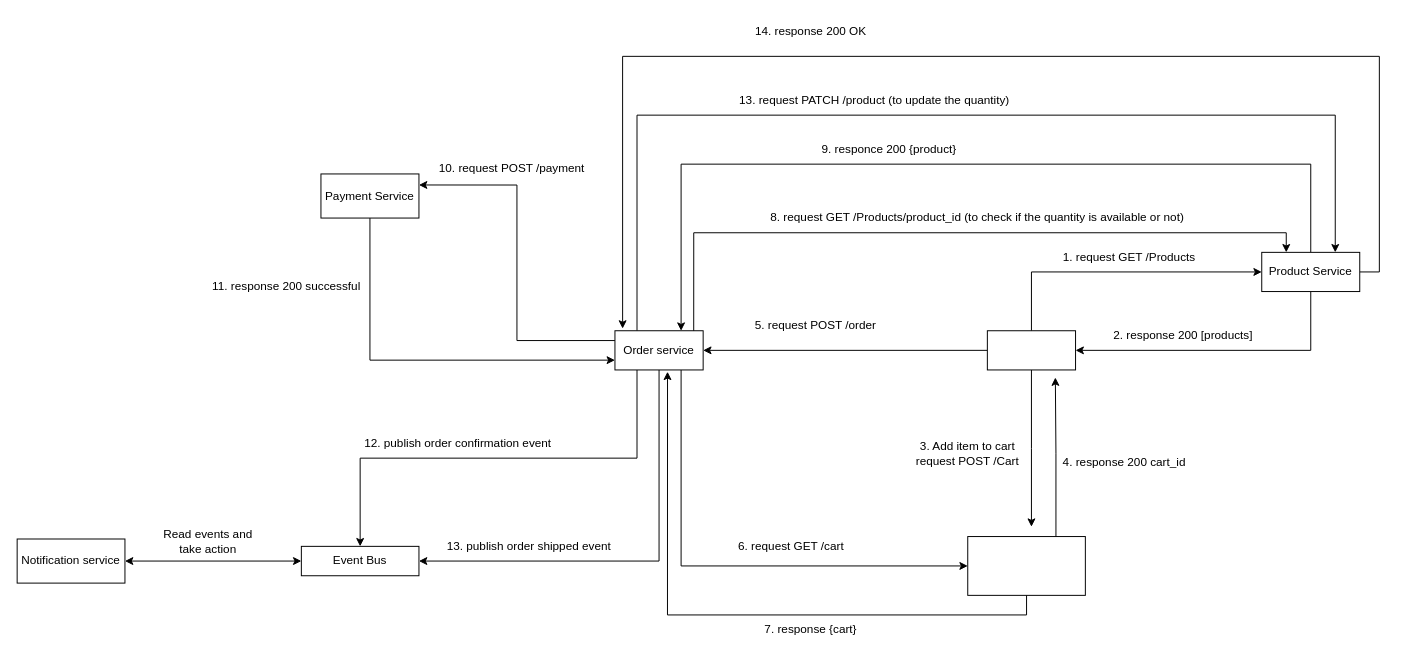
This 1404x661 diagram has some shape labels left out. The centre of each missing label's shape, as x and y in pixels:
Cart Service: the point at 1026,565
UI: the point at 1031,350
